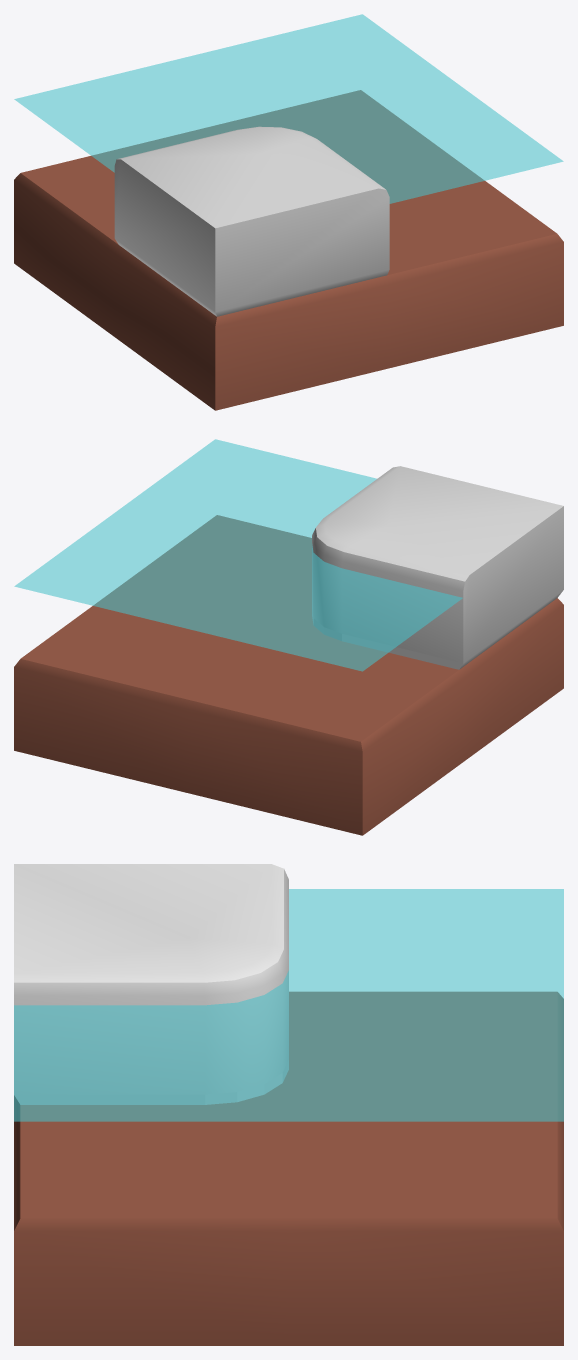
The model's file is square_snow_waterOuterCorner_noSides.fbx.
The picture shows the model from 3 angles, top to bottom: view 1: azimuth 30°, elevation 25°; view 2: azimuth 150°, elevation 25°; view 3: azimuth 270°, elevation 25°; orthographic projection. The views are drawn at different scales.
Parts seen in each view (by area): view 1: square_snow_waterOuterCorner_noSides; view 2: square_snow_waterOuterCorner_noSides; view 3: square_snow_waterOuterCorner_noSides.
Boxes of the visible parts, x1=… form: square_snow_waterOuterCorner_noSides: x1=14, y1=14, x2=563, y2=410; square_snow_waterOuterCorner_noSides: x1=14, y1=439, x2=563, y2=835; square_snow_waterOuterCorner_noSides: x1=14, y1=864, x2=563, y2=1345.
Bounding box in the file's own units: 2 × 1 × 2.
